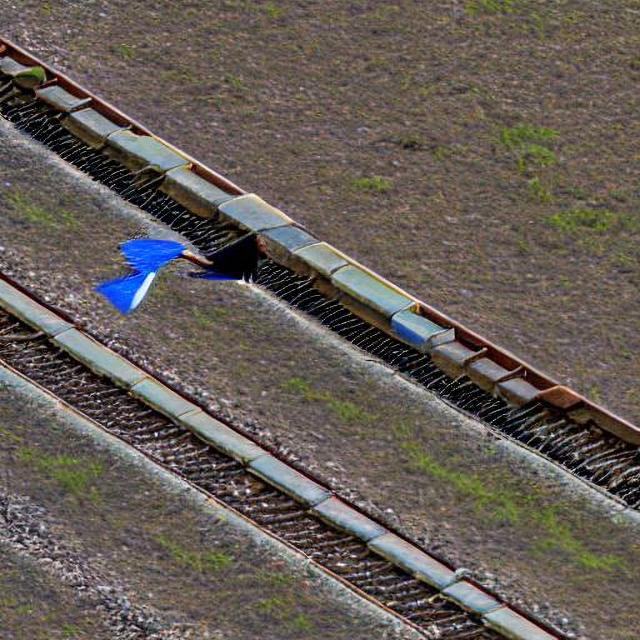floating object: (86, 220, 212, 334)
